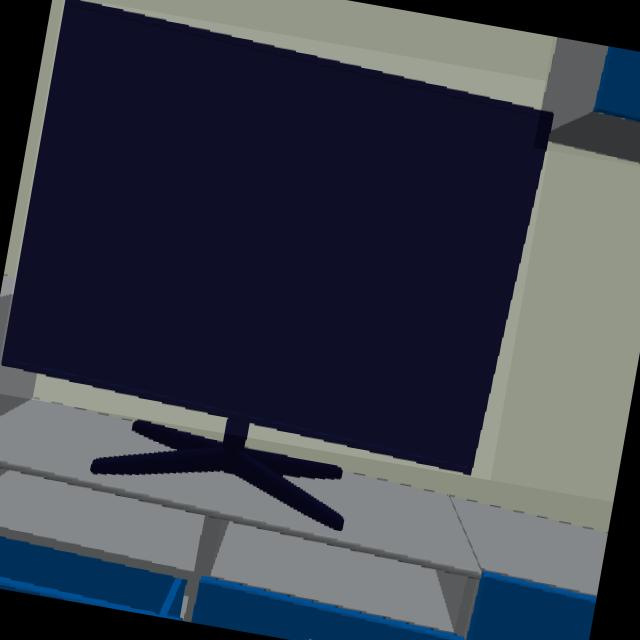cabinet: (0, 400, 607, 640), (541, 37, 640, 165)
monitor: (0, 0, 554, 532)
